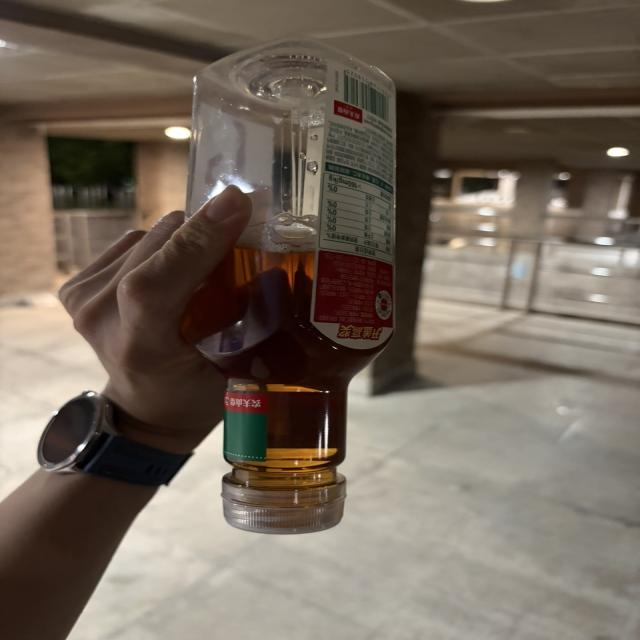medium: (183, 39, 396, 532)
